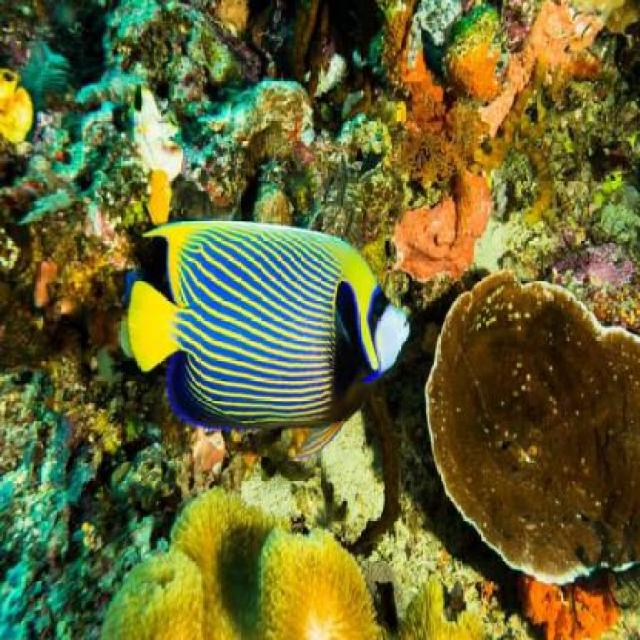AngelFish: (122, 223, 408, 432)
